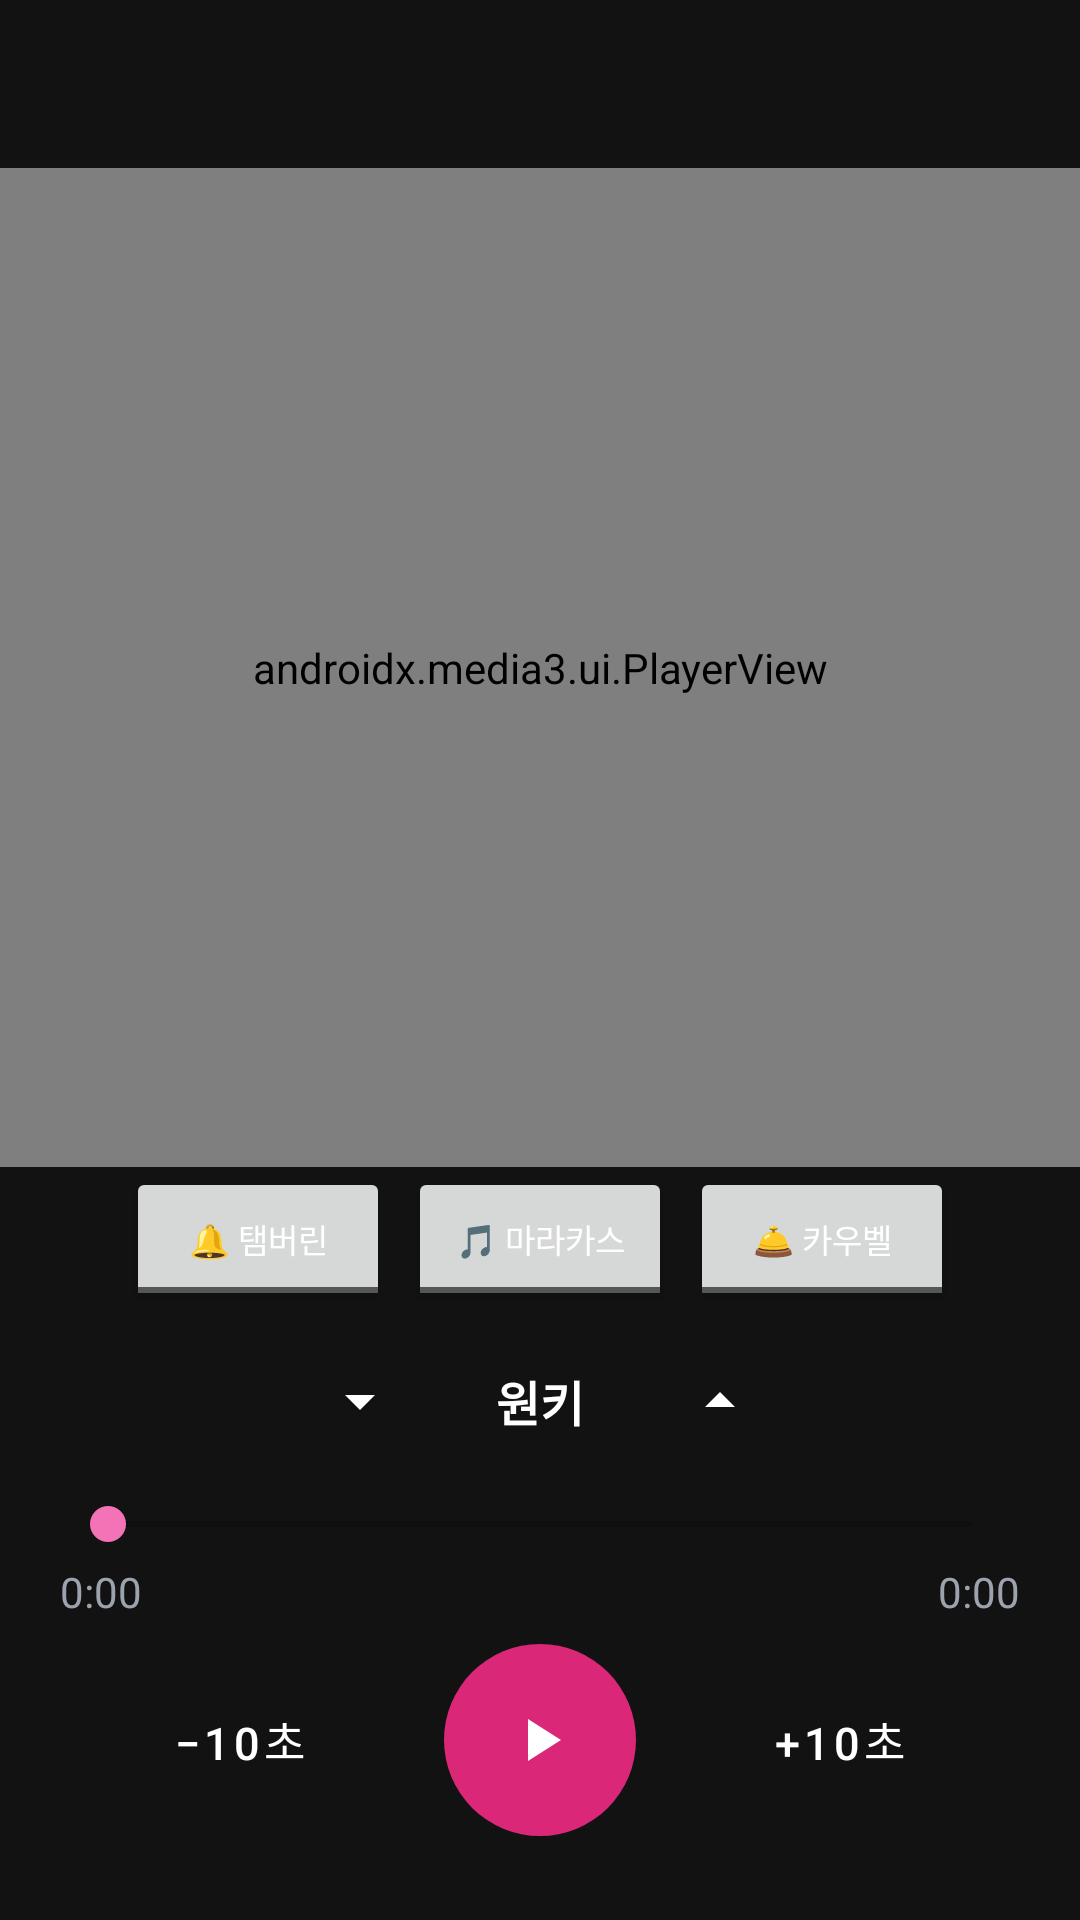

Named icons in this screenshot (1080*1920) and their bounding boxes, (left=x1, top=y1, right=x2, bottom=y2):
재생 / 일시정지: (left=444, top=1644, right=636, bottom=1836)
키 내림: (left=345, top=1395, right=375, bottom=1410)
키 올림: (left=705, top=1392, right=735, bottom=1407)
